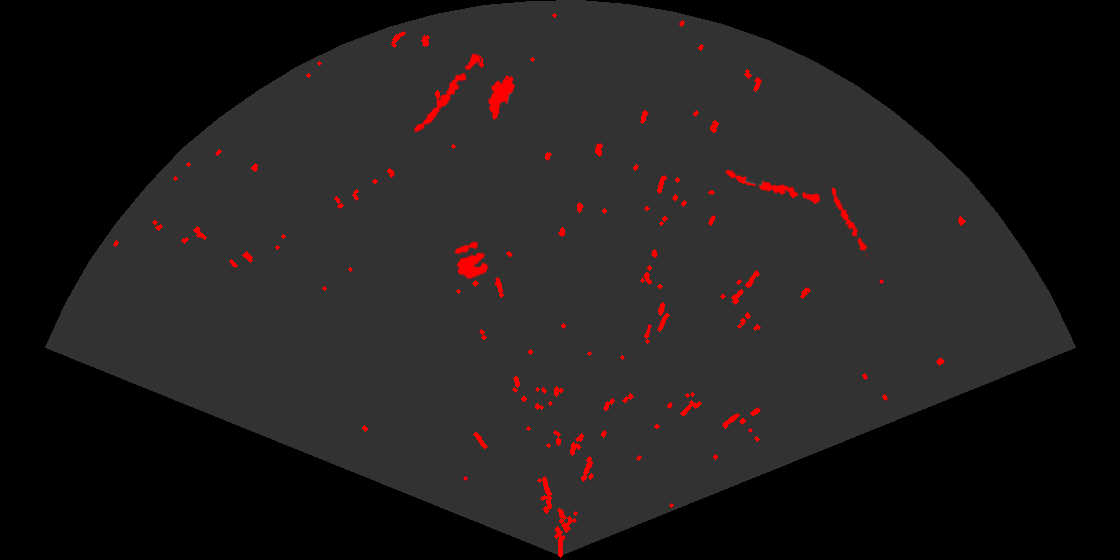AUV: (487, 74, 516, 122)
ball: (453, 239, 490, 281)
chain: (413, 52, 482, 134), (724, 168, 823, 206), (830, 185, 871, 258)
